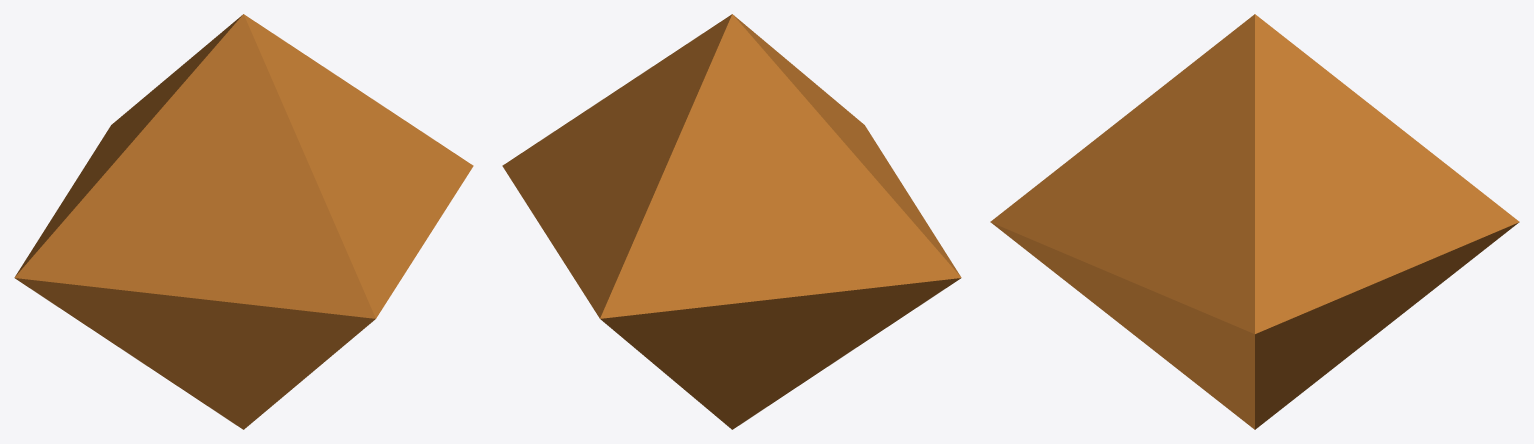
The picture shows the model from 3 angles, left to right: view 1: azimuth 30°, elevation 25°; view 2: azimuth 150°, elevation 25°; view 3: azimuth 270°, elevation 25°; orthographic projection.
Visible parts, largest first — view 1: d8; view 2: d8; view 3: d8.
Part boxes in pixels (<box>): d8: <box>14,14,473,429</box>; d8: <box>502,14,961,429</box>; d8: <box>990,14,1519,429</box>.
Size of the model in its own units: 2 by 2 by 1.73.
